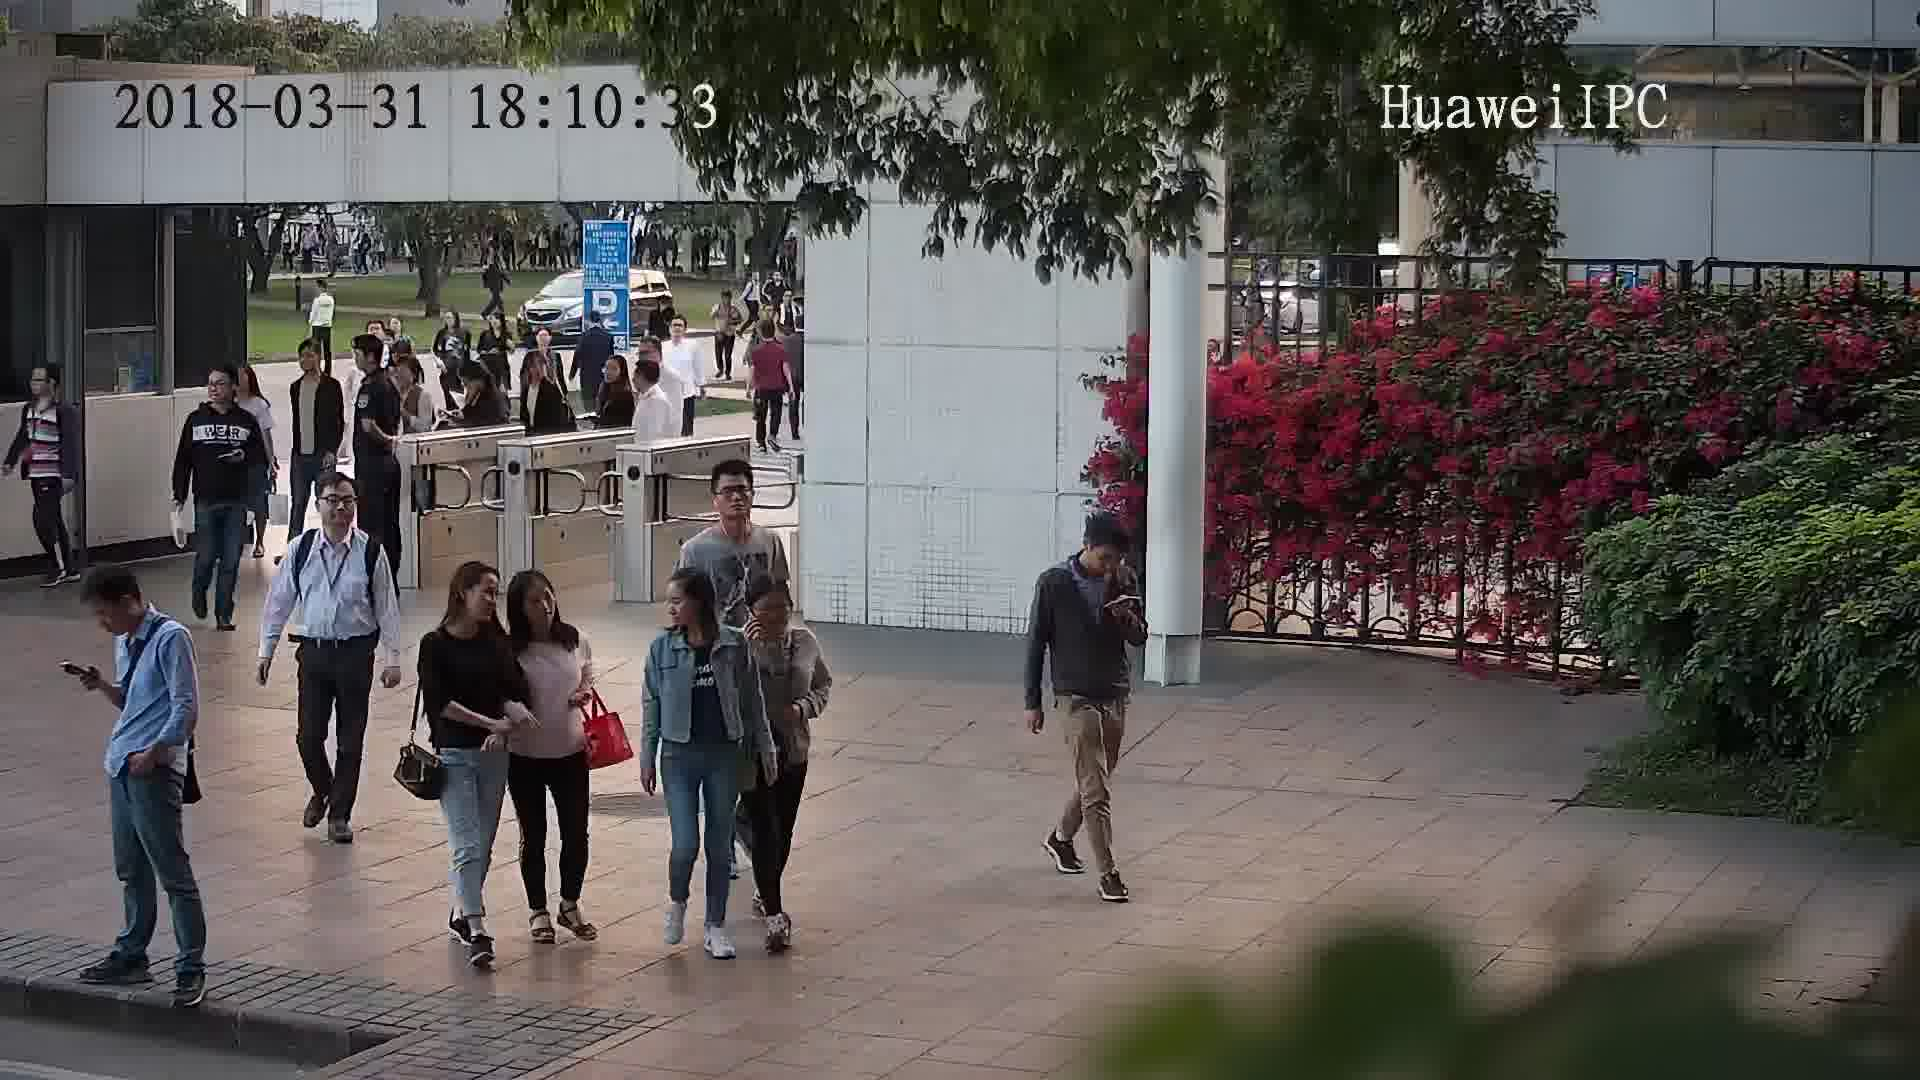face: (709, 471, 759, 525), (748, 587, 798, 637), (458, 576, 508, 625), (311, 482, 363, 530), (516, 578, 563, 625), (659, 580, 696, 632)
person: (81, 562, 191, 673), (686, 458, 784, 560), (421, 558, 509, 665), (1033, 510, 1130, 603), (503, 566, 590, 665), (291, 469, 382, 563), (651, 567, 740, 663), (737, 572, 817, 662), (183, 362, 257, 436), (289, 336, 344, 401), (18, 359, 74, 423), (350, 333, 395, 398), (628, 355, 674, 413), (231, 359, 277, 416), (457, 360, 509, 410), (392, 353, 434, 409), (514, 352, 560, 402), (524, 322, 566, 371), (595, 352, 635, 402), (576, 299, 616, 349), (659, 309, 698, 359), (432, 302, 472, 349), (747, 317, 790, 359), (474, 305, 514, 350), (309, 273, 338, 302), (713, 285, 737, 316)
